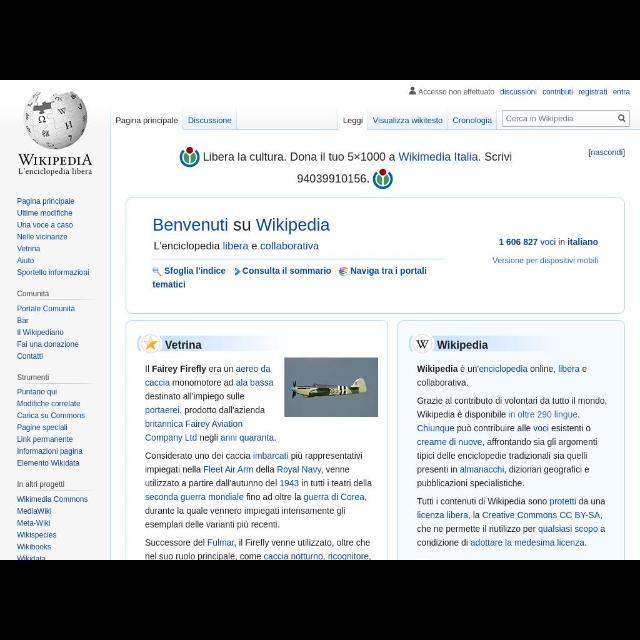icon: (618, 114, 626, 122), (408, 88, 416, 94)
image: (284, 358, 378, 417), (23, 92, 87, 148), (373, 169, 393, 189), (180, 147, 200, 167), (413, 334, 433, 354), (142, 334, 160, 352), (152, 268, 162, 276), (338, 268, 348, 276), (235, 268, 241, 274)
input: (502, 110, 630, 126)
text: (146, 452, 372, 530), (417, 397, 607, 488), (146, 365, 276, 443), (418, 498, 606, 546), (146, 539, 370, 559), (418, 364, 586, 386), (154, 218, 330, 234), (204, 152, 512, 160), (18, 154, 92, 176), (154, 242, 318, 250), (499, 238, 598, 245), (493, 258, 599, 264), (165, 266, 225, 276), (352, 267, 426, 275), (18, 448, 82, 457), (298, 174, 369, 182), (18, 269, 88, 277), (373, 116, 442, 124), (18, 412, 86, 420), (243, 268, 331, 274), (437, 341, 489, 351), (116, 117, 178, 125), (419, 89, 495, 95), (17, 198, 74, 206), (18, 399, 80, 406), (18, 459, 80, 466), (18, 436, 72, 444), (17, 496, 88, 502), (506, 116, 574, 122), (17, 424, 67, 432), (17, 210, 73, 217), (164, 340, 202, 350), (17, 481, 64, 489), (17, 329, 63, 337), (18, 341, 78, 347), (18, 306, 76, 312), (18, 222, 72, 228), (17, 389, 57, 397), (453, 118, 492, 126), (18, 531, 56, 539), (17, 234, 67, 240), (589, 149, 625, 157), (188, 117, 232, 123), (153, 280, 185, 288), (18, 290, 50, 298), (580, 89, 608, 97), (501, 89, 537, 95), (18, 508, 52, 514), (542, 89, 574, 95), (18, 520, 50, 526), (18, 544, 50, 550), (17, 374, 48, 380), (343, 117, 363, 125), (18, 353, 42, 359), (18, 246, 40, 252), (17, 555, 45, 559), (614, 89, 630, 95), (18, 258, 34, 264), (17, 317, 28, 323)
